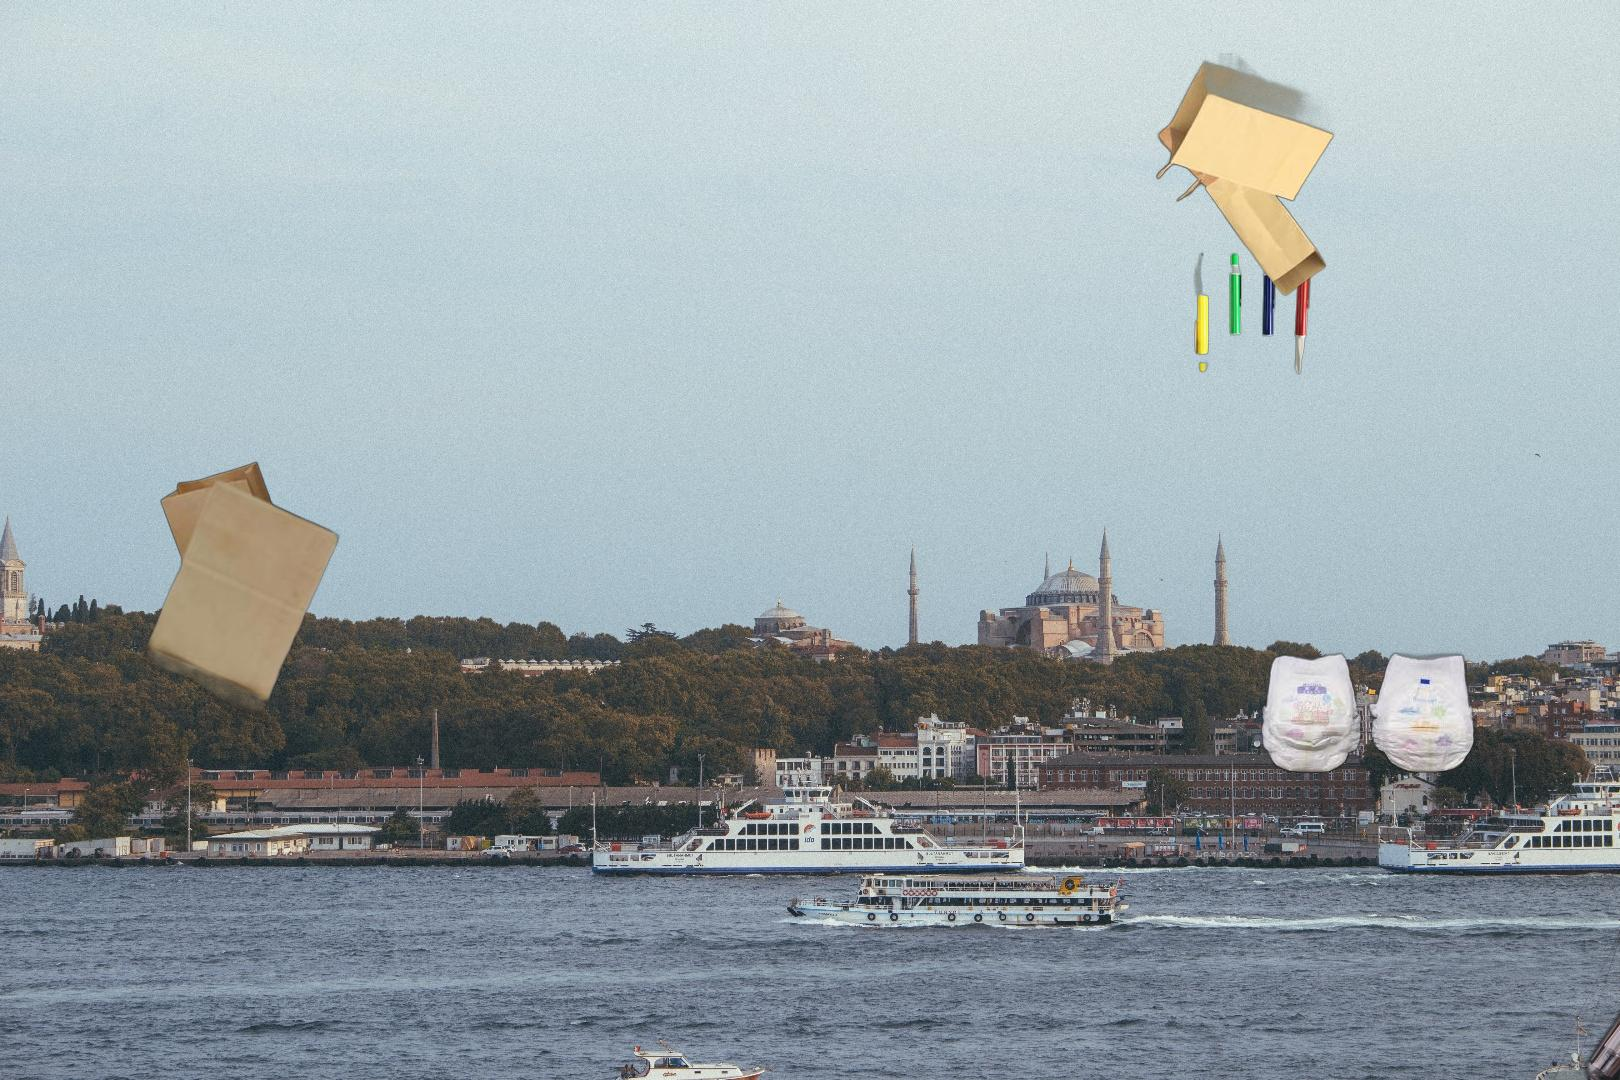paper: (904, 975, 1416, 1080)
paper-bag: (135, 459, 435, 752), (1155, 53, 1375, 298)
penholder: (1178, 250, 1315, 391), (1577, 682, 1620, 1080)
trash: (1258, 650, 1480, 776)
